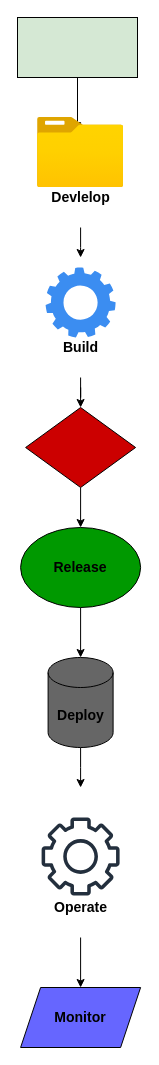
Some shapes in this 159 by 1065 pixel diagram are drawn without their labels. Here are the shapes that lost their labels. From the top down, the box of each, then its label:
(16, 16, 138, 78): Plan
(25, 406, 136, 488): Test
